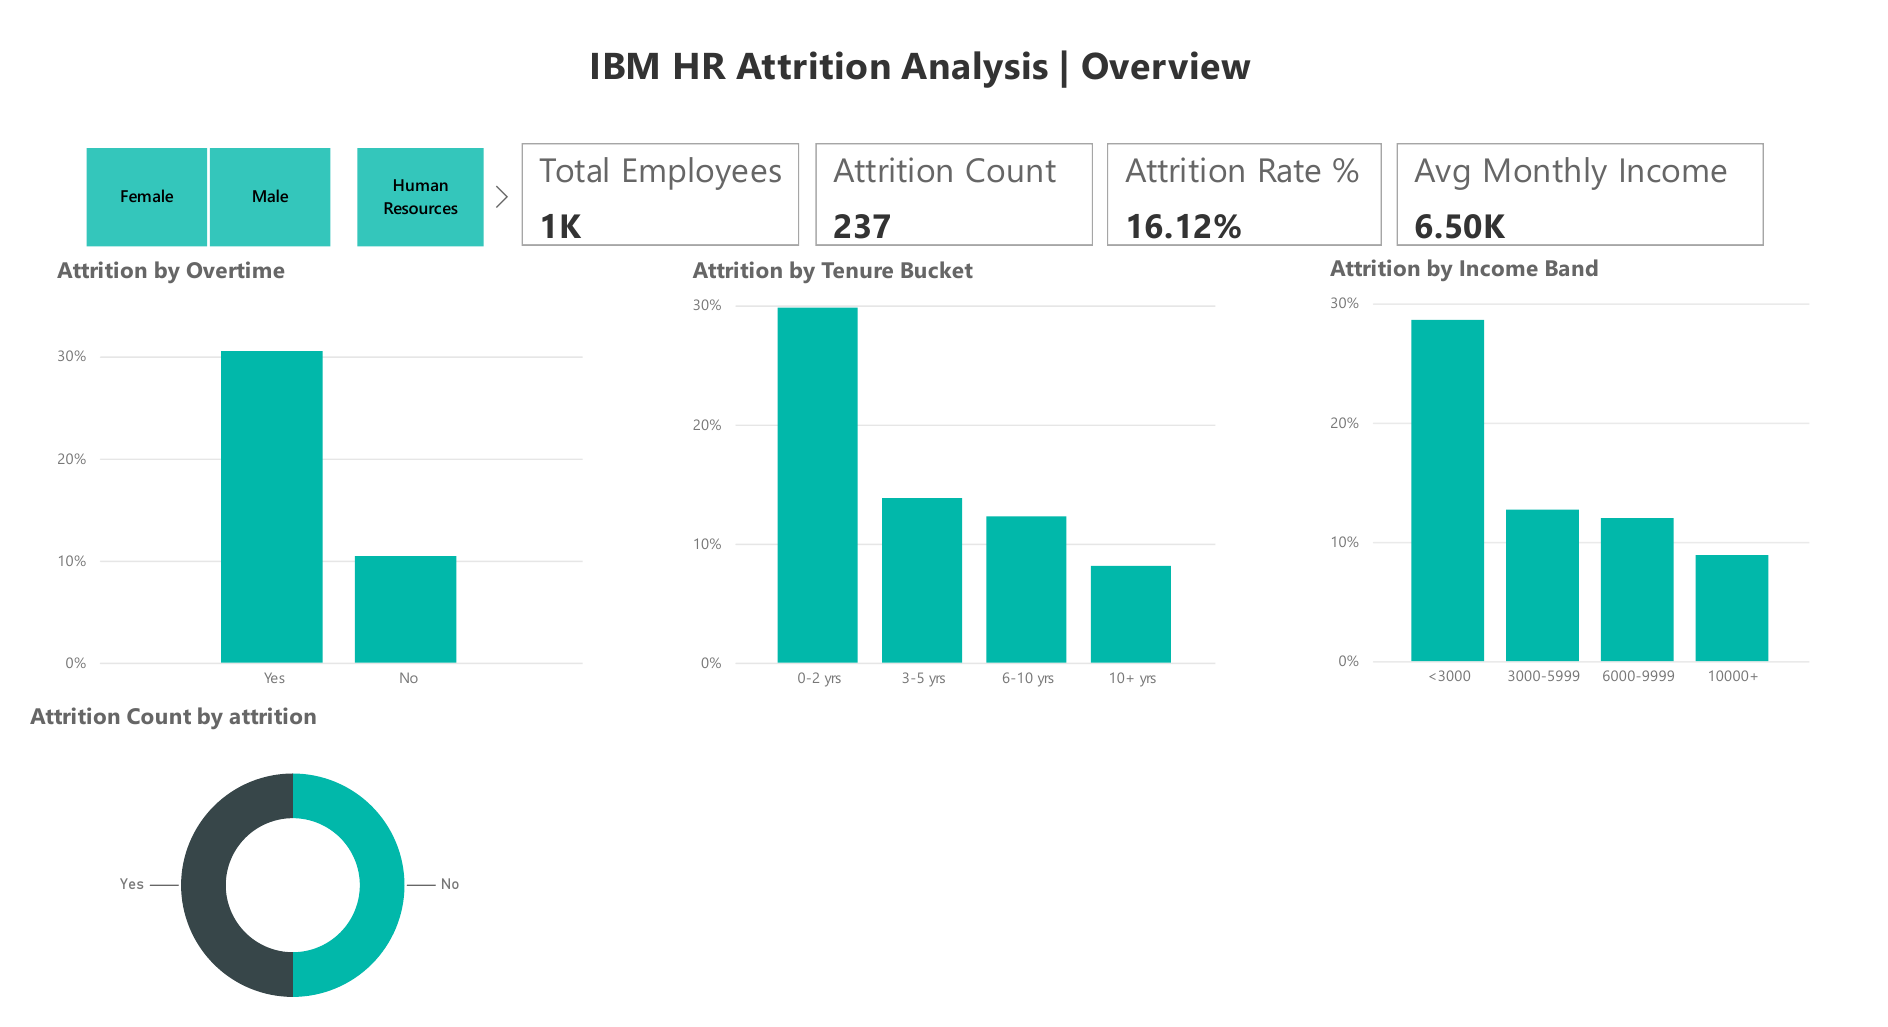

The dashboard page shown, as its layout file describes it:
{"tool":"powerbi","page":{"name":"IBM HR Attrition Analysis | Overview","canvas":[1280,720],"ordinal":0},"visuals":[{"type":"cardVisual","fields":{"Data":["public demographics.Total Employees"]},"box":[351.5,76.1,208.5,83.7],"z":0},{"type":"cardVisual","fields":{"Data":["public attrition.Attrition Count"]},"box":[560,76.1,208.5,83.7],"z":1000},{"type":"cardVisual","fields":{"Data":["public attrition.Attrition Rate %"]},"box":[768.5,76.1,207,83.7],"z":2000},{"type":"cardVisual","fields":{"Data":["public compensation.Avg Monthly Income"]},"box":[975.4,76.1,272.4,83.7],"z":3000},{"type":"donutChart","fields":{"Category":["public attrition.attrition"],"Y":["public attrition.Attrition Count"]},"box":[0,478.6,385,240.8],"z":4000},{"type":"slicer","title":"Department Slicer","fields":{"Values":["public demographics.department"]},"box":[211.9,77.6,140.3,83.6],"z":5000},{"type":"clusteredColumnChart","title":"Attrition by Overtime","fields":{"Category":["public employment.overtime"],"Y":["public attrition.Attrition Rate %"]},"box":[19.3,160.5,385,319.6],"z":6000},{"type":"slicer","fields":{"Values":["public demographics.gender"]},"box":[19.4,77.6,223.9,83.6],"z":7000},{"type":"clusteredColumnChart","title":"Attrition by Income Band","fields":{"Category":["public compensation.IncomeBand"],"Y":["public attrition.Attrition Rate %"]},"box":[928,159,352,320],"z":8000},{"type":"textbox","box":[257.2,0,767,47.2],"z":9000},{"type":"clusteredColumnChart","title":"Attrition by Tenure Bucket","fields":{"Category":["public employment.TenureBucket"],"Y":["public attrition.Attrition Rate %"]},"box":[472.7,160.5,383.5,319.6],"z":10000}]}

Visuals, with their boxes on the page's 1280x720 design canvas (x1, y1, x2, y2). These are canvas units, not pixel positions in the 1888x1027 screenshot, which may show the page scaled, cropped or inside an application window:
cardVisual - public demographics.Total Employees: rect(352, 76, 560, 160)
cardVisual - public attrition.Attrition Count: rect(560, 76, 768, 160)
cardVisual - public attrition.Attrition Rate %: rect(768, 76, 976, 160)
cardVisual - public compensation.Avg Monthly Income: rect(975, 76, 1248, 160)
donutChart - public attrition.attrition x public attrition.Attrition Count: rect(0, 479, 385, 719)
"Department Slicer" slicer: rect(212, 78, 352, 161)
"Attrition by Overtime" clusteredColumnChart: rect(19, 160, 404, 480)
slicer - public demographics.gender: rect(19, 78, 243, 161)
"Attrition by Income Band" clusteredColumnChart: rect(928, 159, 1280, 479)
textbox: rect(257, 0, 1024, 47)
"Attrition by Tenure Bucket" clusteredColumnChart: rect(473, 160, 856, 480)
